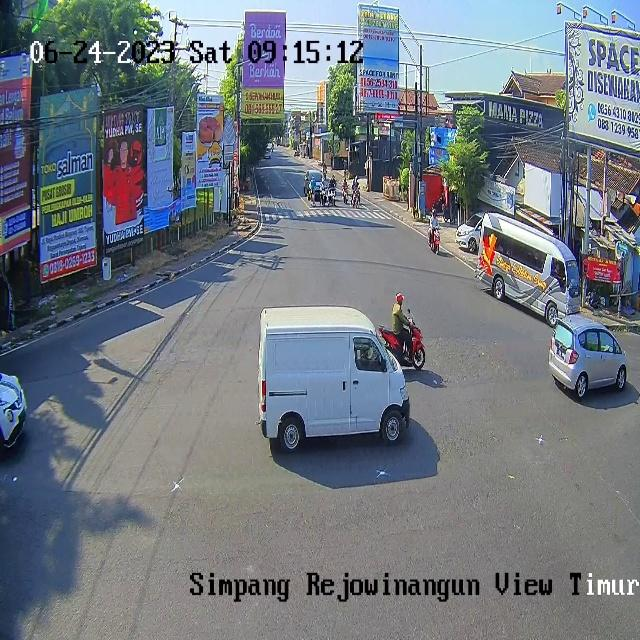bus: (377, 317, 427, 373), (428, 226, 442, 254), (351, 188, 359, 209), (320, 188, 327, 208), (330, 186, 336, 205), (343, 186, 348, 202)
car: (476, 211, 582, 326)
motorcycle: (258, 305, 410, 452), (549, 315, 629, 399), (455, 212, 483, 253), (305, 170, 325, 199)
